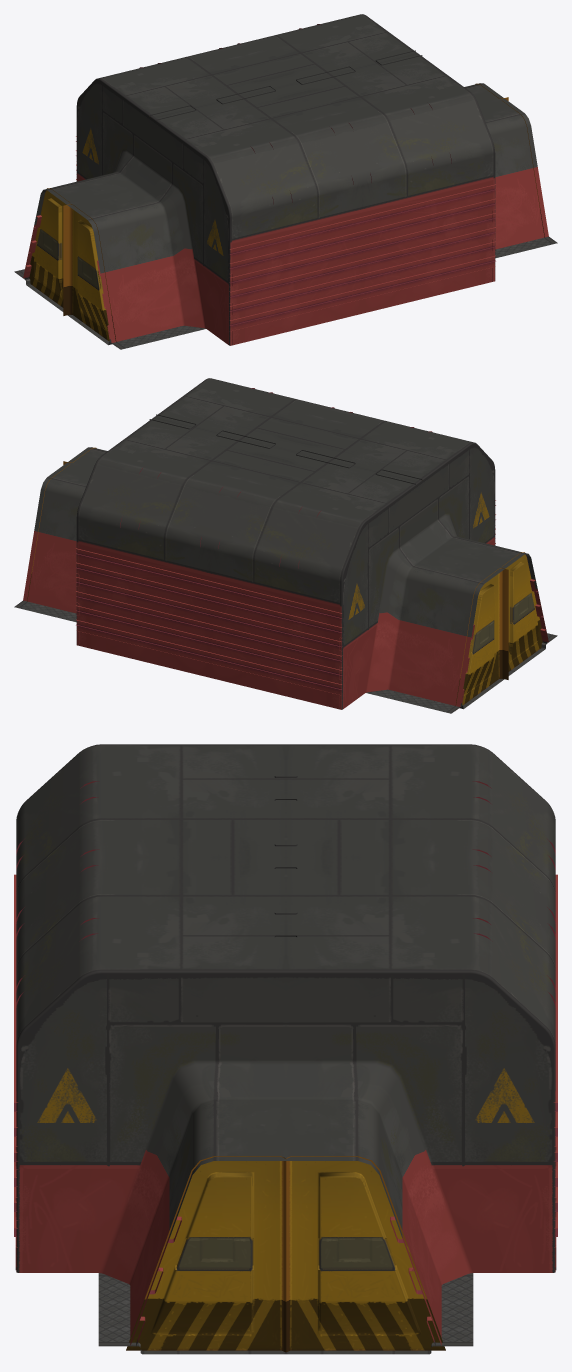
The model's file is TitleRoom.glb.
3 views of the same model, one above another, from view 1: azimuth 30°, elevation 25°; view 2: azimuth 150°, elevation 25°; view 3: azimuth 270°, elevation 25° (orthographic). The views are drawn at different scales.
Parts seen in each view (by area): view 1: Room; view 2: Room; view 3: Room.
Boxes of the visible parts, x1=… form: Room: x1=14, y1=14, x2=557, y2=349; Room: x1=14, y1=378, x2=557, y2=713; Room: x1=14, y1=744, x2=557, y2=1354.
Size of what is drawn, in the model's own units: 22.37 by 8.48 by 13.46.
2 materials, 2 textured.
